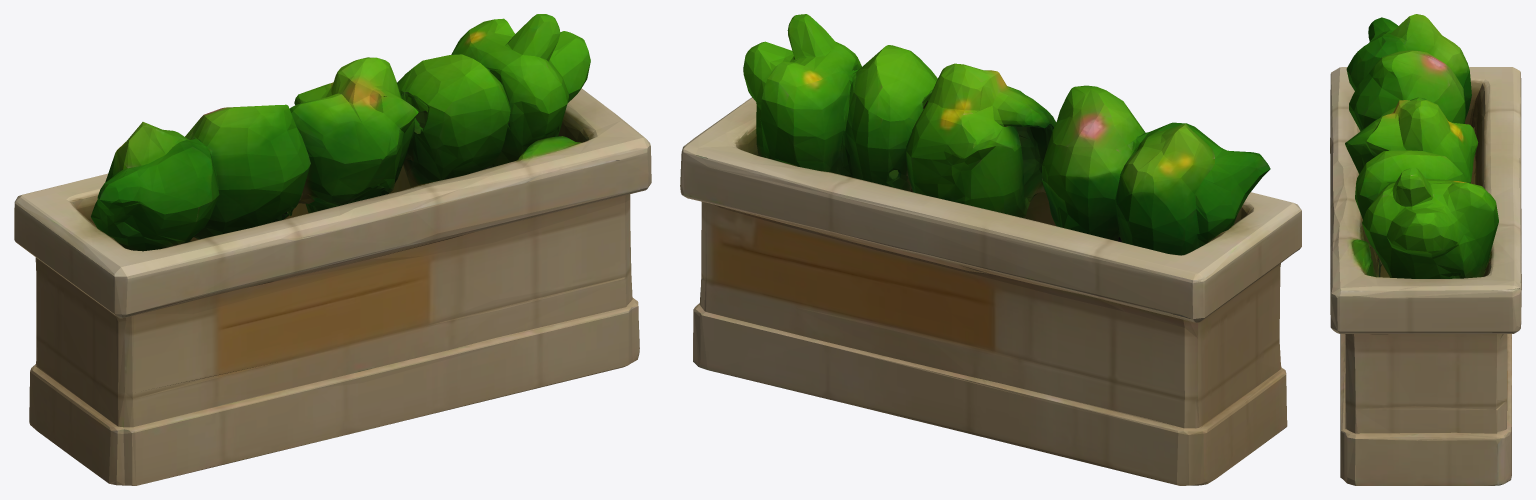
The model's file is city_shrub.glb.
The picture shows the model from 3 angles, left to right: view 1: azimuth 30°, elevation 25°; view 2: azimuth 150°, elevation 25°; view 3: azimuth 270°, elevation 25°; orthographic projection. The views are drawn at different scales.
Visible parts, largest first — view 1: geometry_0; view 2: geometry_0; view 3: geometry_0.
Boxes of the visible parts, x1,y1,x2,y2 form: geometry_0: [14, 14, 651, 485]; geometry_0: [680, 14, 1301, 485]; geometry_0: [1330, 14, 1521, 485].
Size of the model in its own units: 0.9994 by 0.595 by 0.3535.
1 material, 1 textured.
